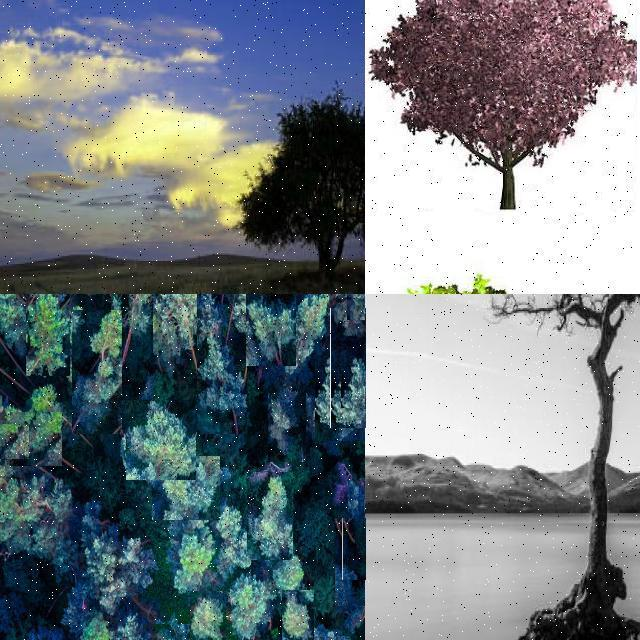tree: (365, 0, 637, 212), (482, 294, 640, 614), (243, 81, 364, 281), (197, 294, 247, 434), (72, 310, 122, 434), (126, 400, 196, 480), (153, 294, 209, 390), (111, 294, 153, 400), (152, 456, 220, 520), (330, 308, 366, 428), (315, 355, 365, 441), (247, 472, 293, 560), (28, 382, 84, 450), (26, 294, 70, 376), (246, 294, 296, 366), (214, 496, 252, 584), (287, 294, 331, 366), (268, 386, 306, 462), (10, 412, 62, 466), (328, 413, 364, 489), (230, 572, 270, 640), (173, 528, 213, 594), (335, 518, 365, 606), (330, 294, 366, 362), (267, 550, 305, 602), (190, 591, 226, 640), (341, 336, 365, 408), (328, 592, 364, 640), (344, 469, 364, 549), (282, 590, 314, 640), (0, 294, 25, 357), (342, 518, 366, 580), (340, 568, 364, 628), (0, 424, 29, 459), (338, 294, 366, 330), (306, 623, 355, 640), (348, 480, 364, 532), (222, 294, 262, 310), (154, 624, 192, 640), (347, 294, 365, 320)
